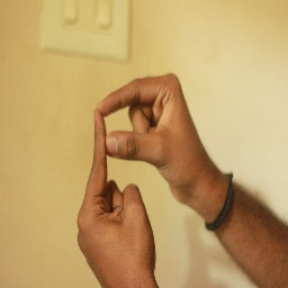P: (79, 64, 187, 240)
